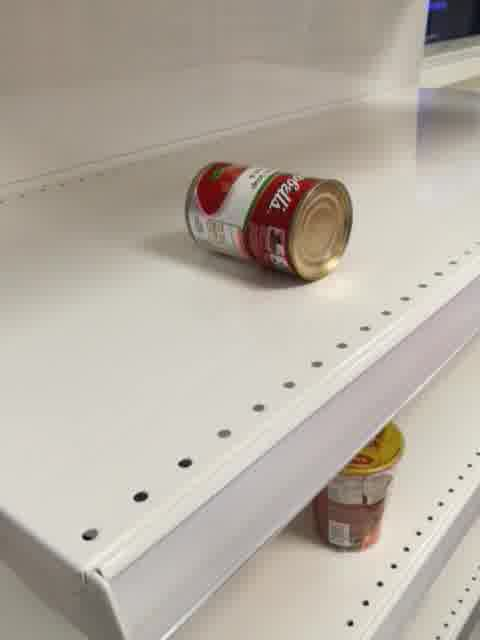tomatosoup: (183, 160, 352, 285)
